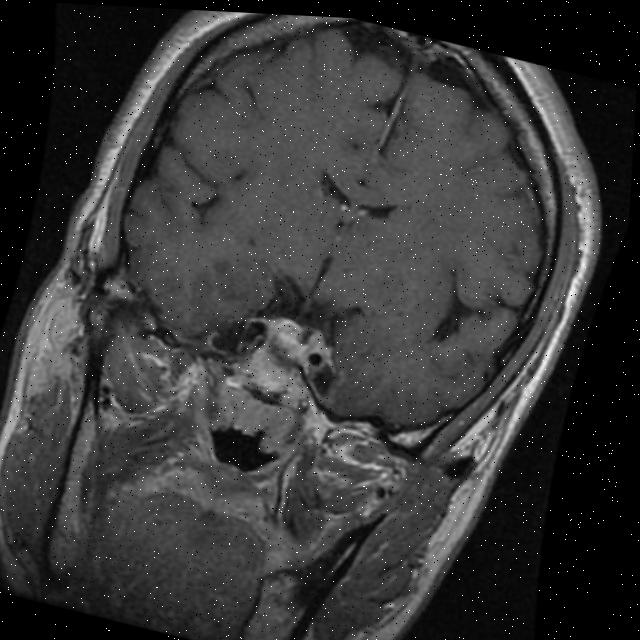Pituitary: (240, 310, 315, 403)
